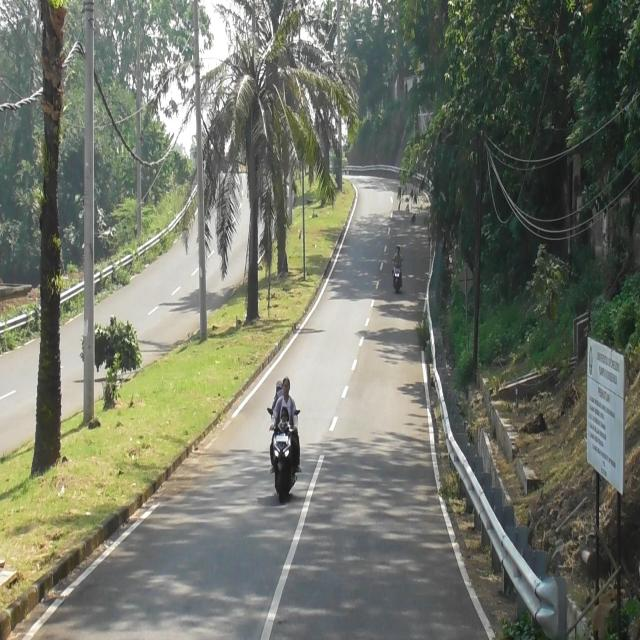motorcycle: (266, 404, 300, 500), (393, 258, 402, 292)
person: (273, 376, 299, 432), (271, 379, 286, 417), (392, 246, 403, 268), (279, 406, 291, 424)
rider_region: (263, 374, 304, 498), (391, 243, 405, 296)
